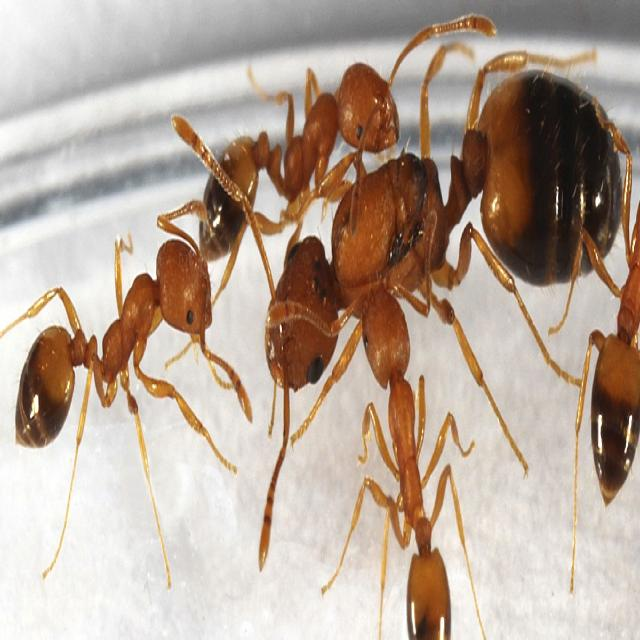ants: (248, 33, 630, 459), (9, 174, 224, 550), (189, 23, 414, 290), (333, 255, 462, 640)
